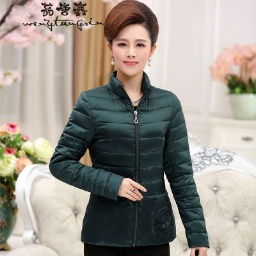face: (103, 1, 160, 80)
